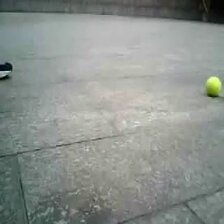tennis: (205, 77, 221, 97)
